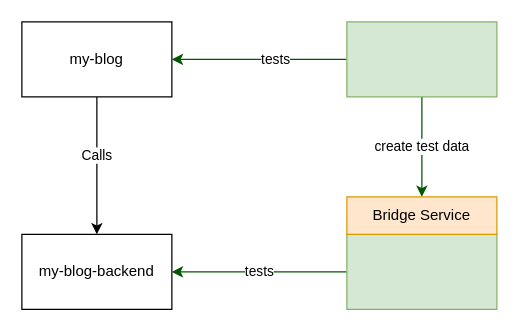
This 519x331 diagram has some shape labels left out. The shapes that lost their labels are listed below. From the top down, each one's centre as x and y in pixels, then its label:
the point at 421,59: fe-tests-cypress (under e2e-tests/frontend-tests)
the point at 421,271: backend-tests (under e2e-tests)
